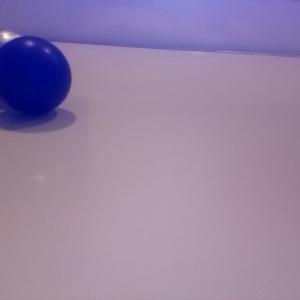alive_ball: (1, 28, 38, 112)
dead_ball: (1, 36, 72, 117)
